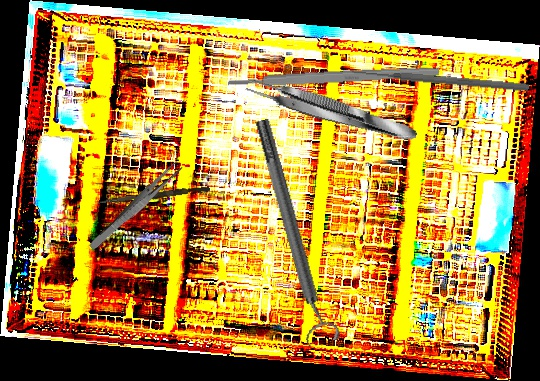Dressing Forceps: (87, 159, 185, 254)
Fixation Ring: (244, 114, 343, 349)
Pusher: (350, 66, 530, 93), (97, 183, 210, 209)
Scalpel Handle: (227, 65, 440, 89)
Tissue Forceps: (243, 72, 420, 149)
